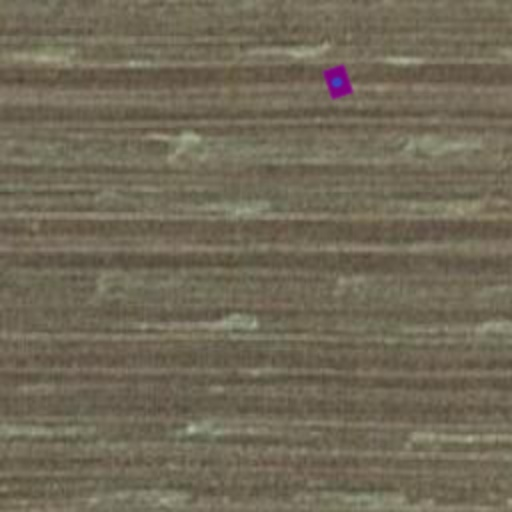rectangle: (318, 62, 358, 102)
